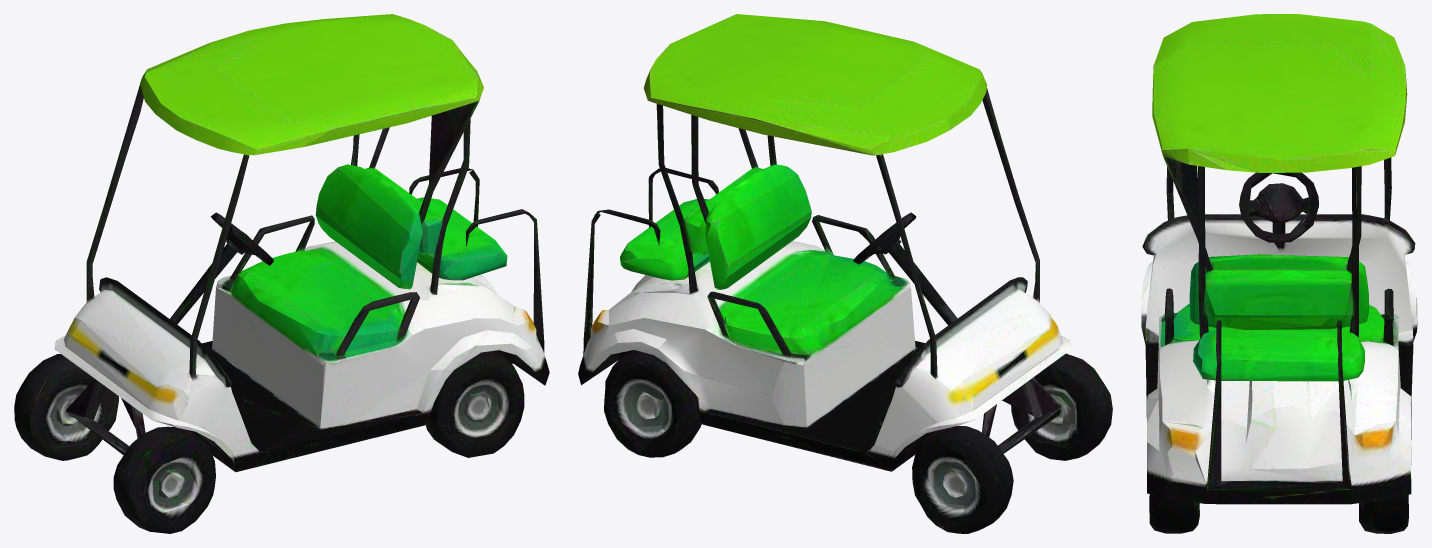
File: golfcart.glb
3 views of the same model, side by side, from view 1: azimuth 30°, elevation 25°; view 2: azimuth 150°, elevation 25°; view 3: azimuth 270°, elevation 25° (orthographic). The views are drawn at different scales.
Size of the model in its own units: 1.9 by 1.54 by 0.9795.
1 material, 1 textured.
